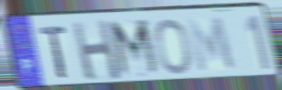1: (245, 14, 271, 72)
H: (70, 18, 124, 82)
M: (107, 18, 164, 81), (185, 14, 239, 75)
O: (153, 17, 194, 76)
T: (37, 24, 70, 80)
